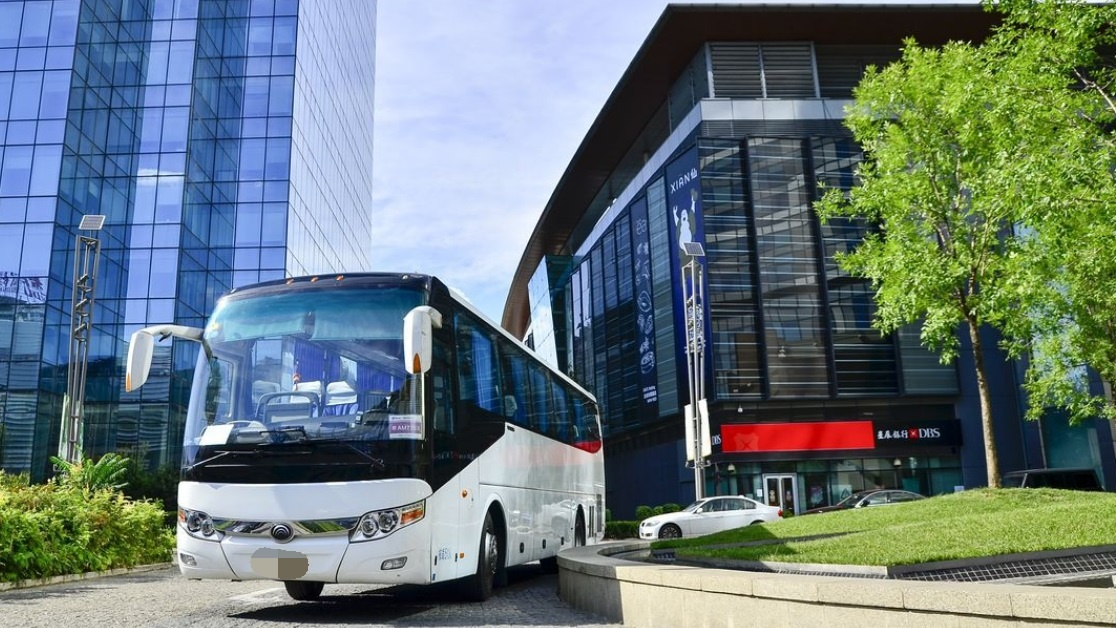bus: (115, 244, 625, 603)
